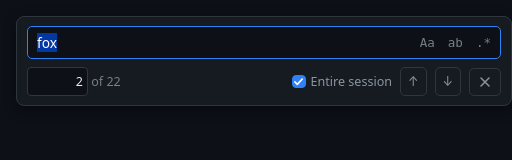
Test: going straight to a hit › clamps a number past the end to the last hit
Type "5" into the field named "Match". click: (58, 82)
box: top-left (27, 67), bottom-right (88, 96)
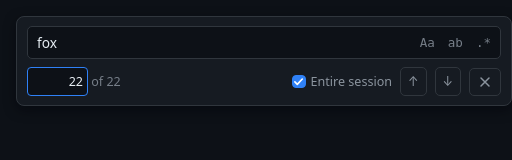
Expected: the field named "Match" holds "22", top-left (27, 67), bottom-right (88, 96)
